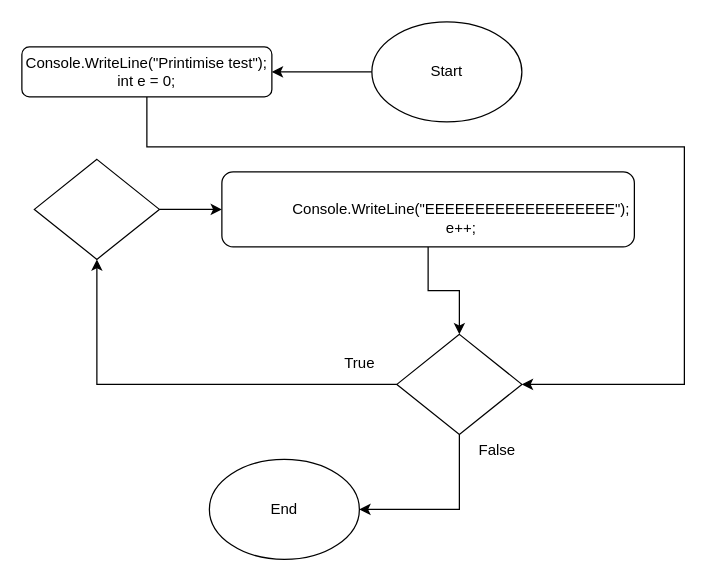
Image size: 716x581. Some labels were removed from this diagram. The centre of each missing label's shape, as x and y in pixels:
do: the point at 96,208
while (e < 20);: the point at 459,383
